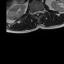CCS_normal: (36, 8, 38, 18)
LFS_normal: (40, 8, 42, 15)
LLS_normal: (38, 8, 40, 15)
RFS_normal: (32, 10, 34, 16)
RLS_normal: (34, 9, 36, 16)
